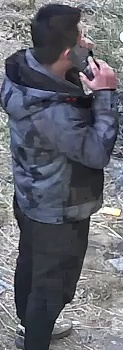phone: (8, 1, 113, 166)
